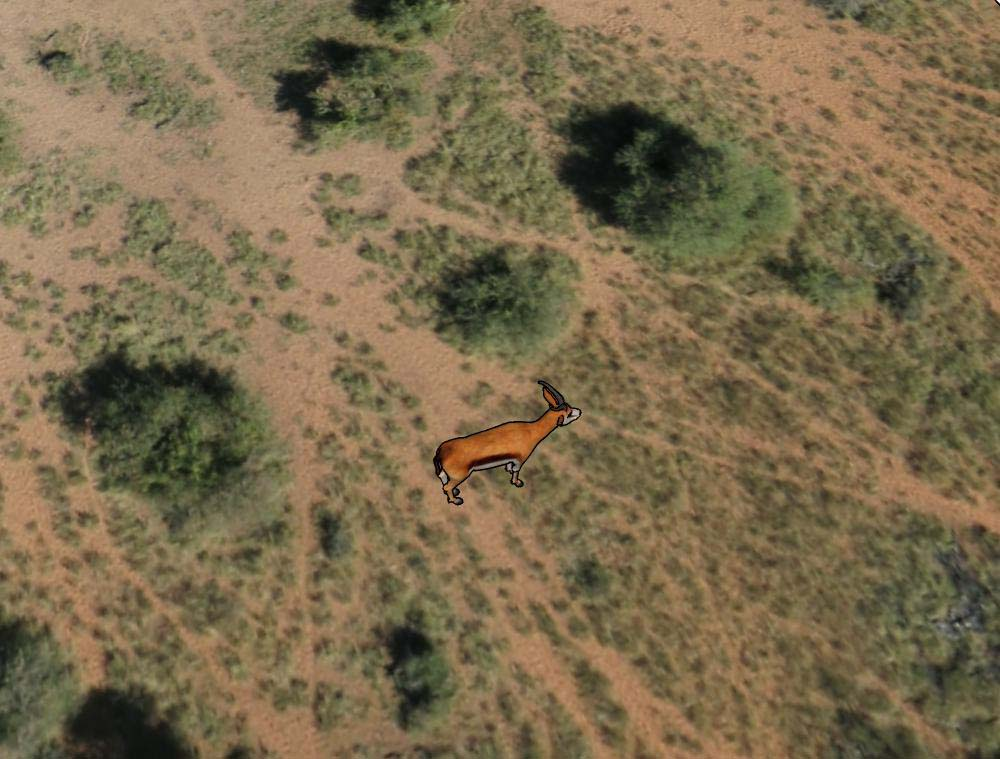springbok: (431, 379, 585, 508)
